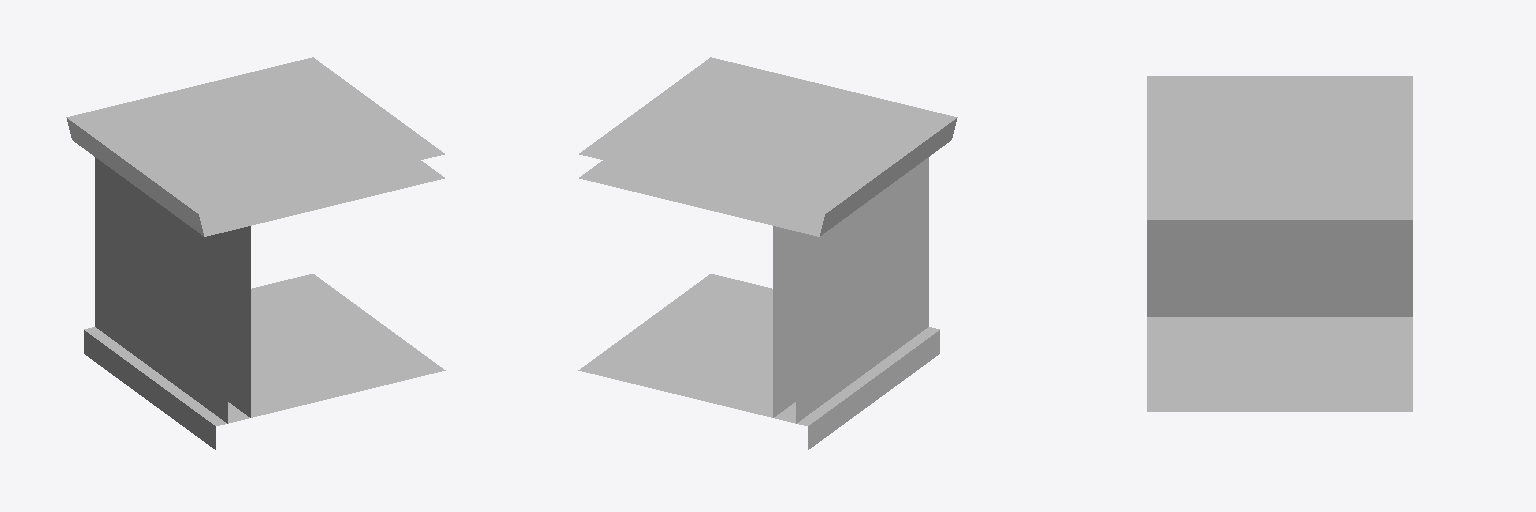
The picture shows the model from 3 angles: view 1: azimuth 30°, elevation 25°; view 2: azimuth 150°, elevation 25°; view 3: azimuth 270°, elevation 25°; orthographic projection.
Parts seen in each view (by area): view 1: objobjobjobjRegroup08; view 2: objobjobjobjRegroup08; view 3: objobjobjobjRegroup08.
Part boxes in pixels (x1,y1,x2,y2): objobjobjobjRegroup08: (66, 57, 445, 449); objobjobjobjRegroup08: (578, 57, 957, 449); objobjobjobjRegroup08: (1147, 76, 1412, 411).
Bounding box in the file's own units: 10.75 × 10 × 10.